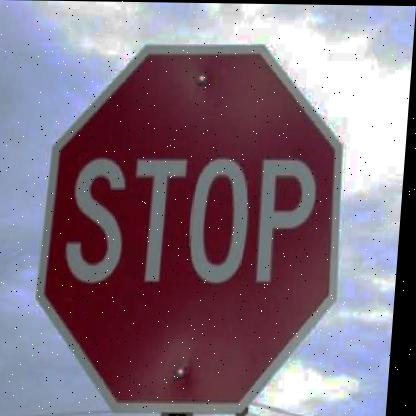Stop Sign: (34, 16, 367, 416)
